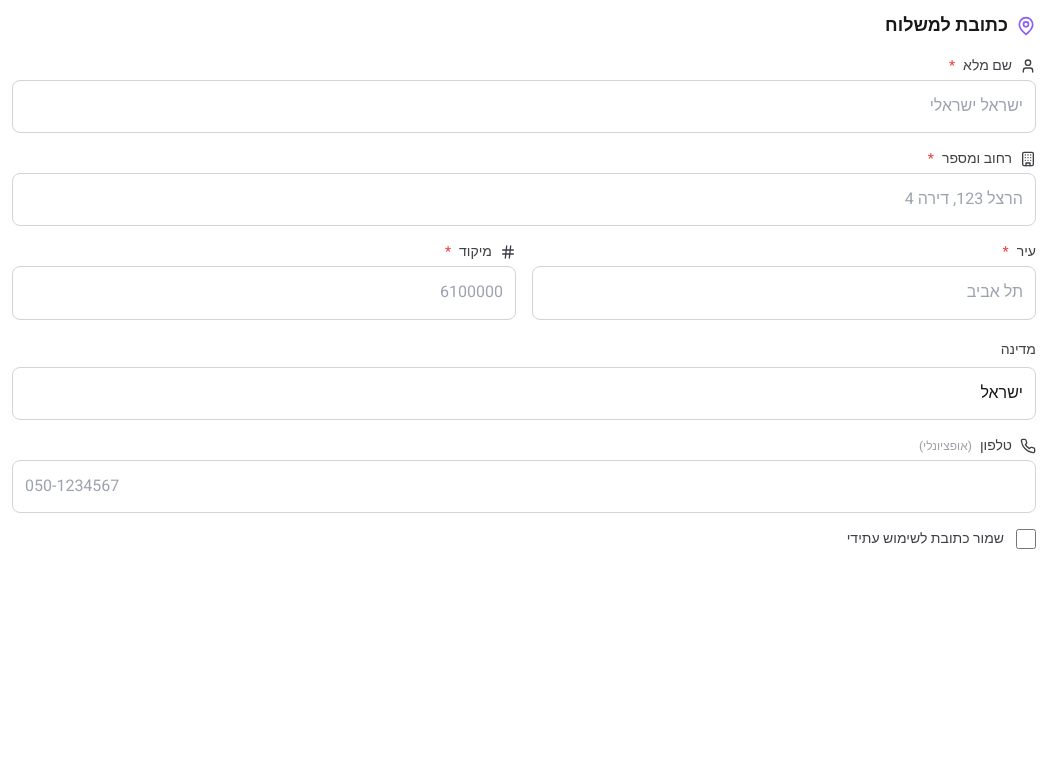
Test: ShippingAddressForm › Validation › shows error when city is empty
Click the field labelled "עיר *" at {"x": 784, "y": 293}, box [532,266,1036,320]
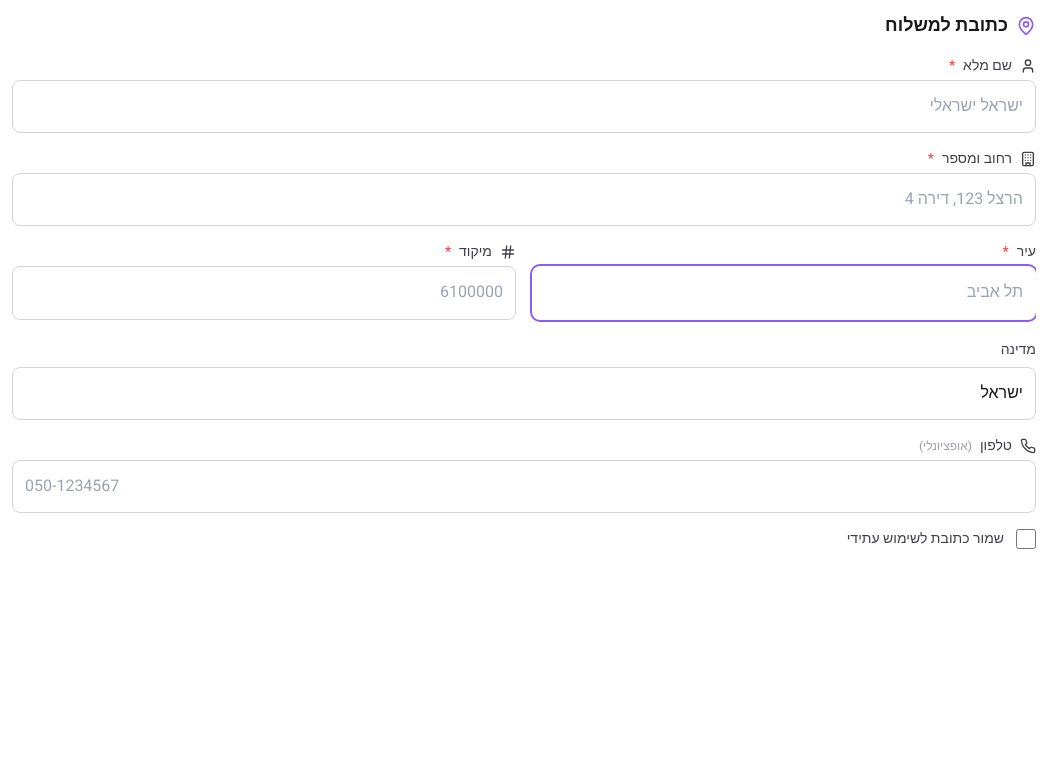
Press Tab
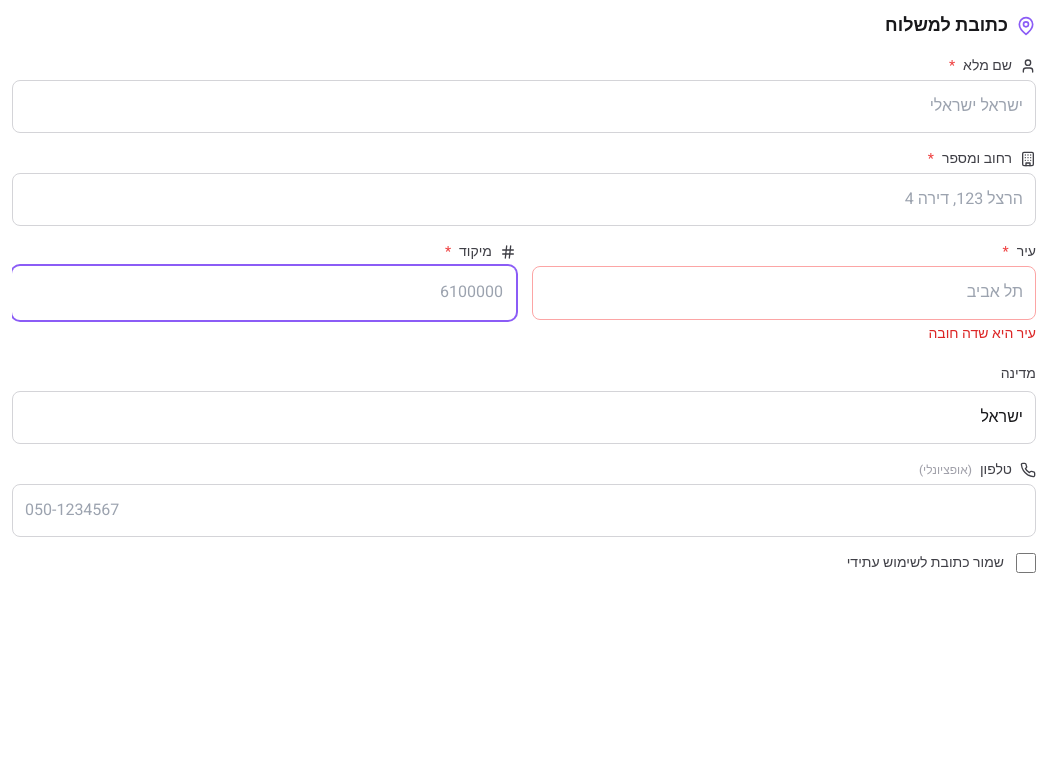
Expected: the text "עיר היא שדה חובה" is shown, [928,323,1036,344]
